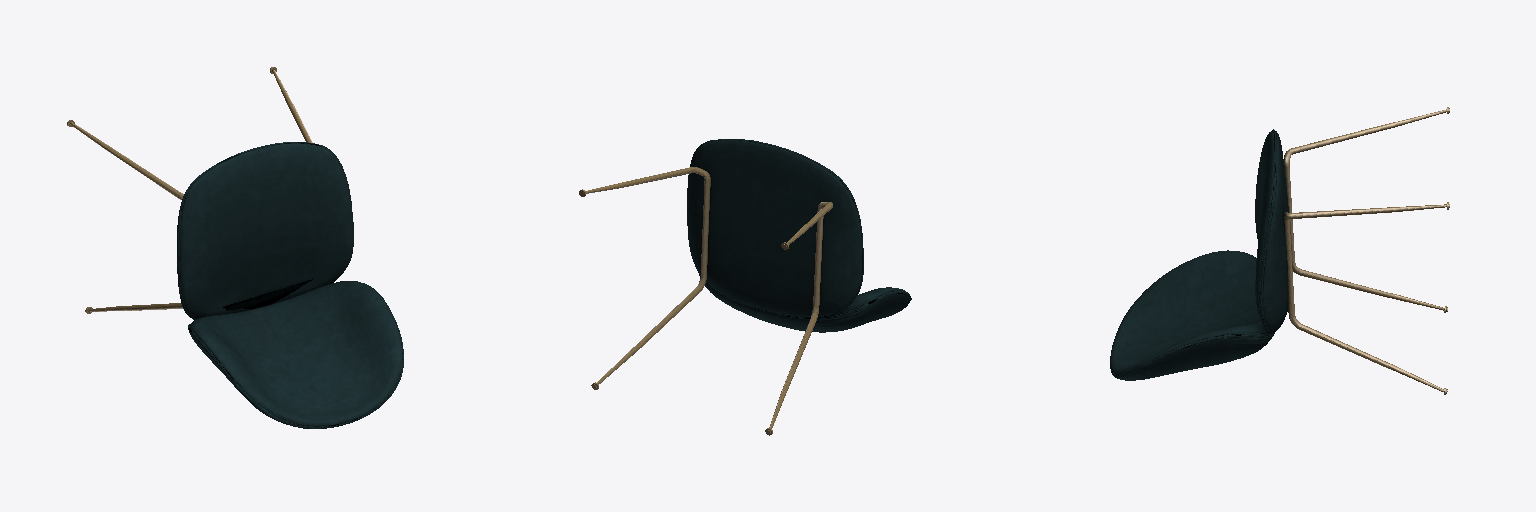
The picture shows the model from 3 angles: view 1: azimuth 30°, elevation 25°; view 2: azimuth 150°, elevation 25°; view 3: azimuth 270°, elevation 25°; orthographic projection.
Bounding box in the file's own units: 0.5817 × 0.5855 × 0.8175.
1 materials, 1 textured.